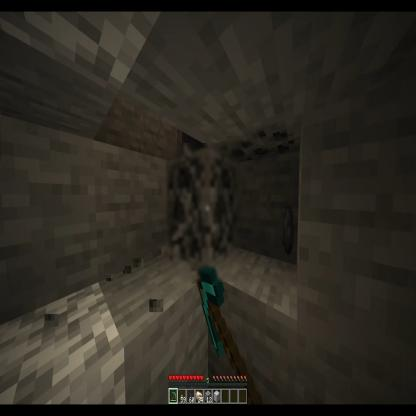coal ore: (162, 143, 241, 282)
